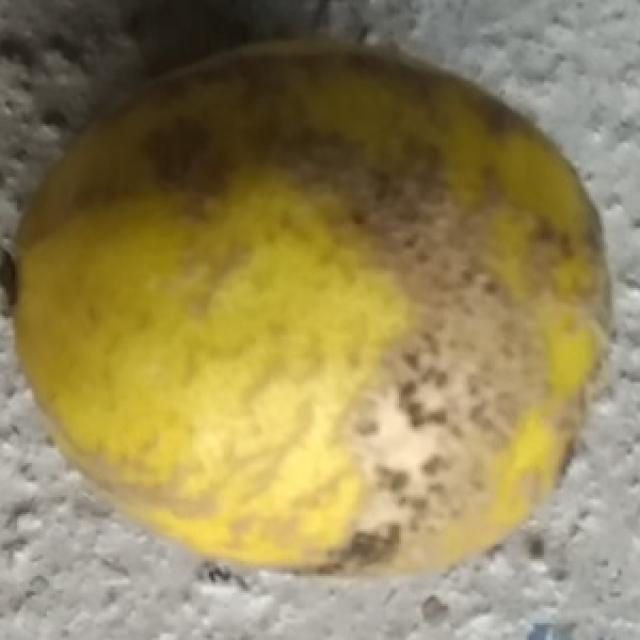overripe: (2, 34, 626, 586)
